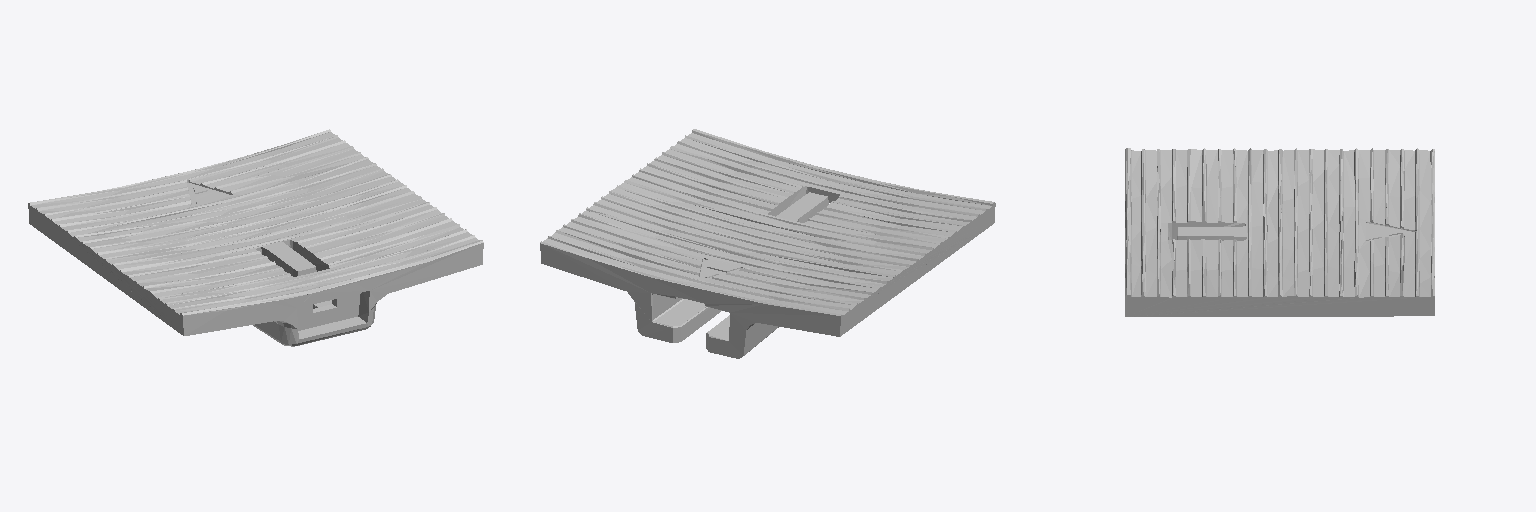
File: paddle_tip.obj
The picture shows the model from 3 angles: view 1: azimuth 30°, elevation 25°; view 2: azimuth 150°, elevation 25°; view 3: azimuth 270°, elevation 25°; orthographic projection.
Visible parts, largest first — view 1: _[number redacted]_[number redacted]; view 2: _[number redacted]_[number redacted]; view 3: _[number redacted]_[number redacted].
Part boxes in pixels (left/top/right/bottom): _[number redacted]_[number redacted]: left=28, top=129, right=483, bottom=346; _[number redacted]_[number redacted]: left=540, top=129, right=995, bottom=358; _[number redacted]_[number redacted]: left=1125, top=148, right=1434, bottom=316.
Size of the model in its own units: 0.0404 by 0.009 by 0.036.